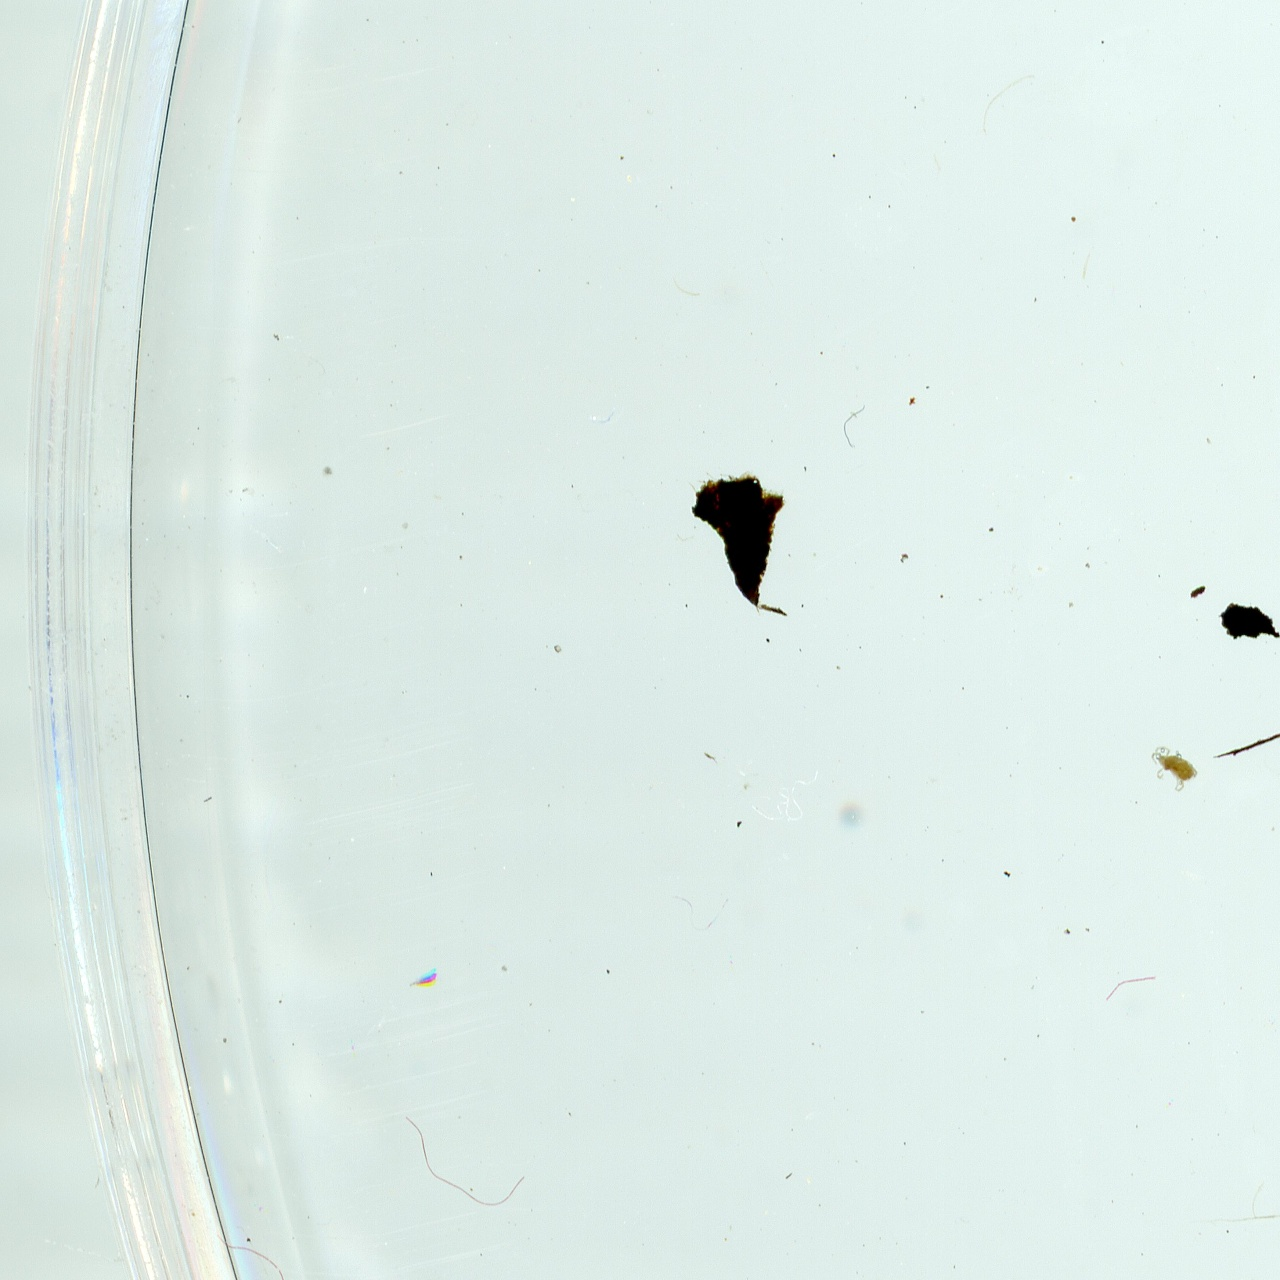arthropod: (1148, 741, 1204, 799), (404, 969, 441, 992)
